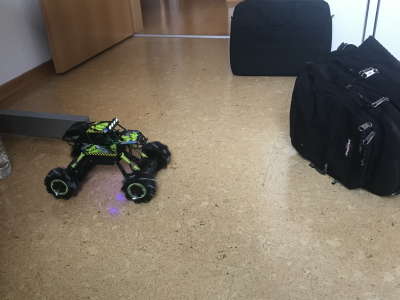remote control car: (41, 119, 173, 205)
